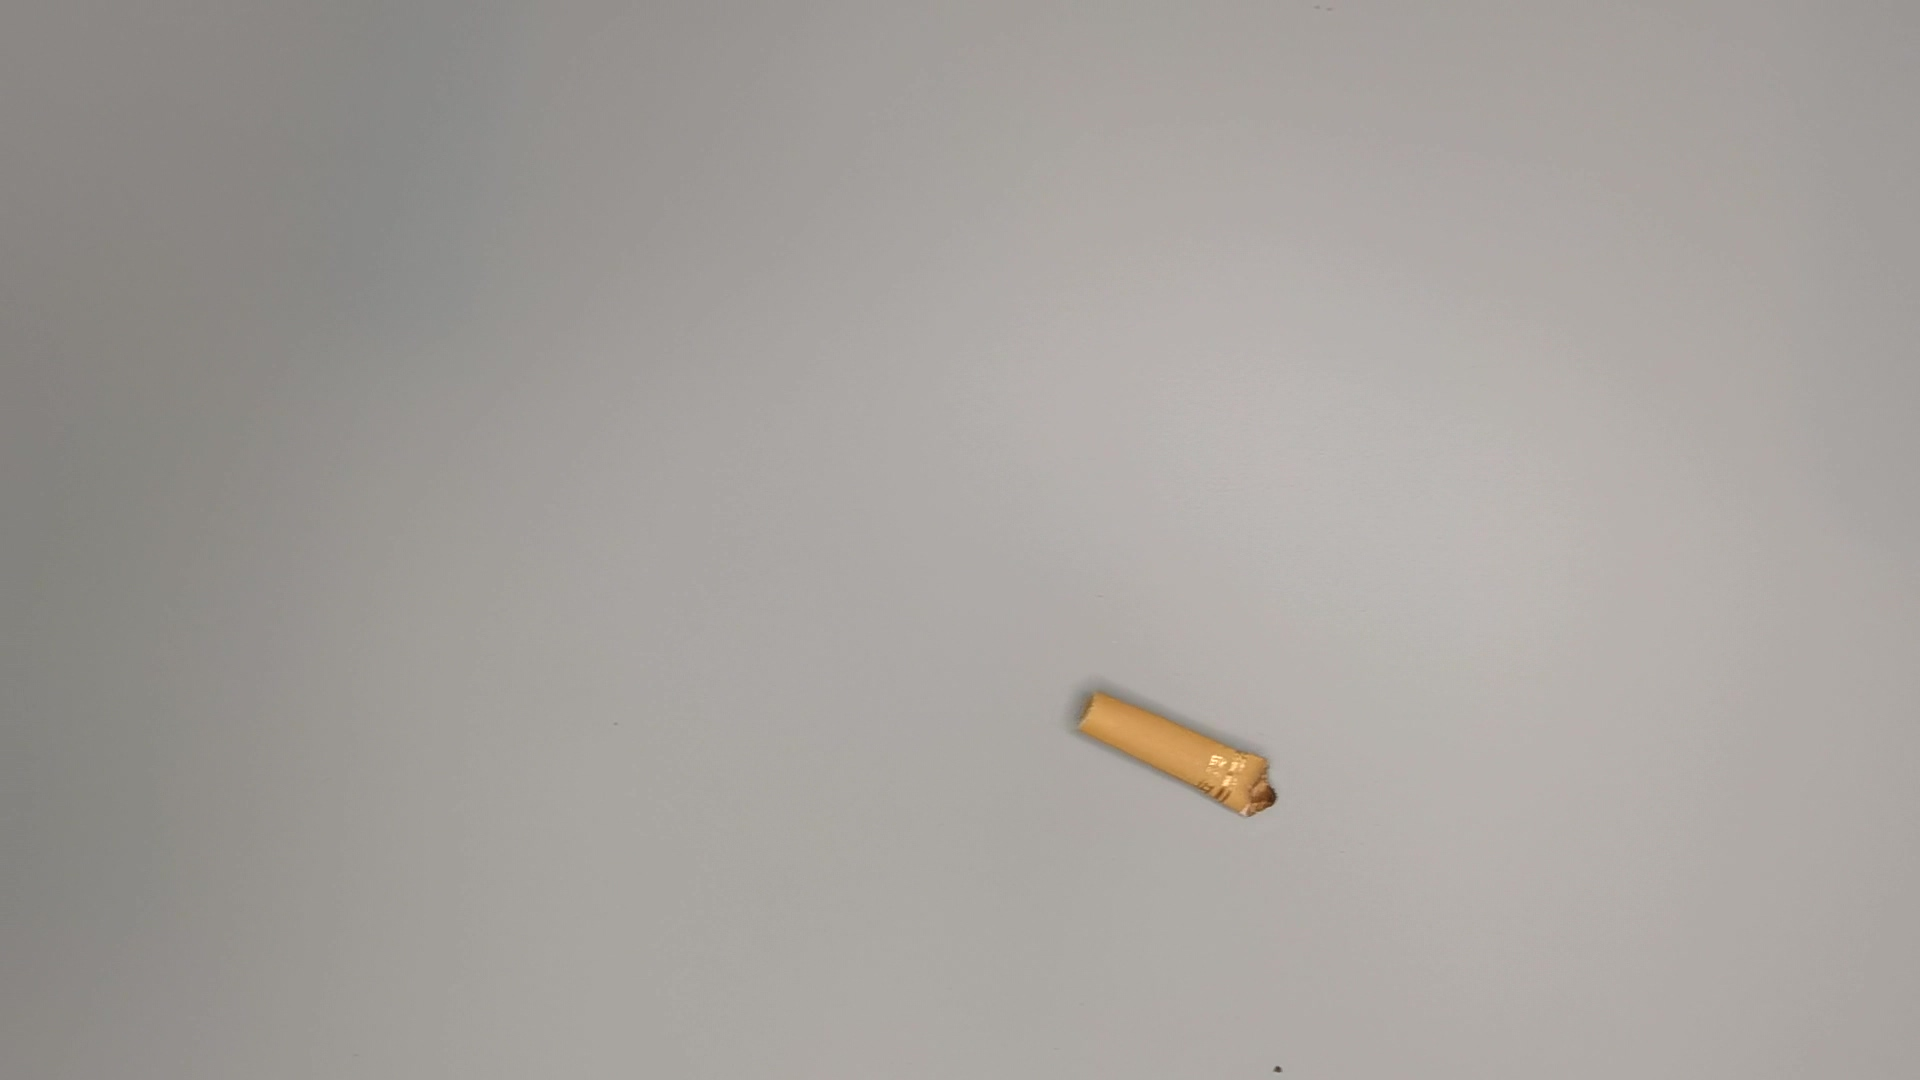cigarette: (1069, 690, 1280, 827)
